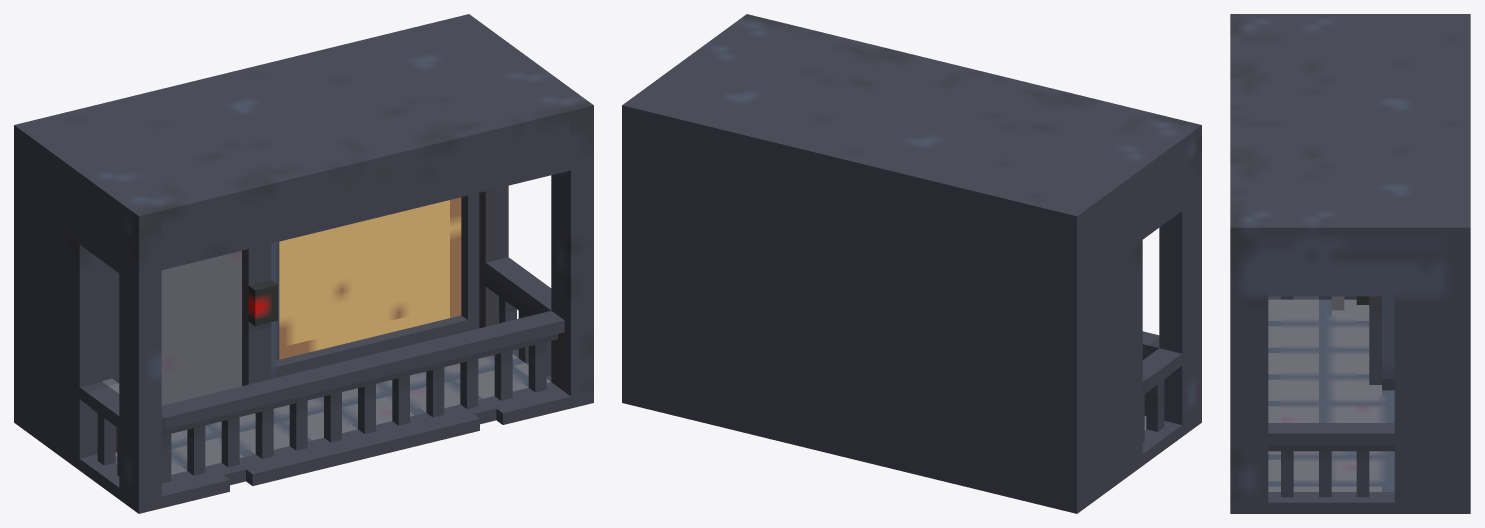
The model's file is BuildingBlock-16.fbx.
3 renders of one model, left to right at view 1: azimuth 30°, elevation 25°; view 2: azimuth 150°, elevation 25°; view 3: azimuth 270°, elevation 25°, orthographic. The views are drawn at different scales.
Parts seen in each view (by area): view 1: BuildingBlock_16; view 2: BuildingBlock_16; view 3: BuildingBlock_16.
Boxes of the visible parts, <box> form: BuildingBlock_16: <box>14,14,593,513</box>; BuildingBlock_16: <box>622,14,1201,513</box>; BuildingBlock_16: <box>1230,14,1470,513</box>.
Size of the model in its own units: 400 by 250 by 190.
Materials: 2 (2 with a texture image).
